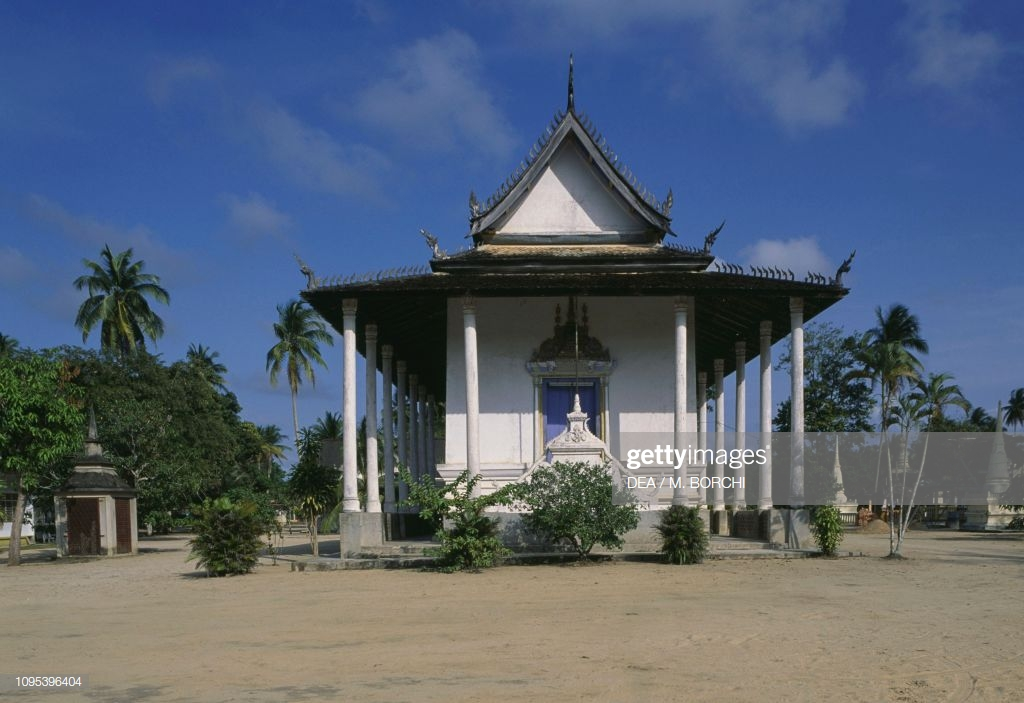Buddhist Temple: (345, 81, 808, 514)
